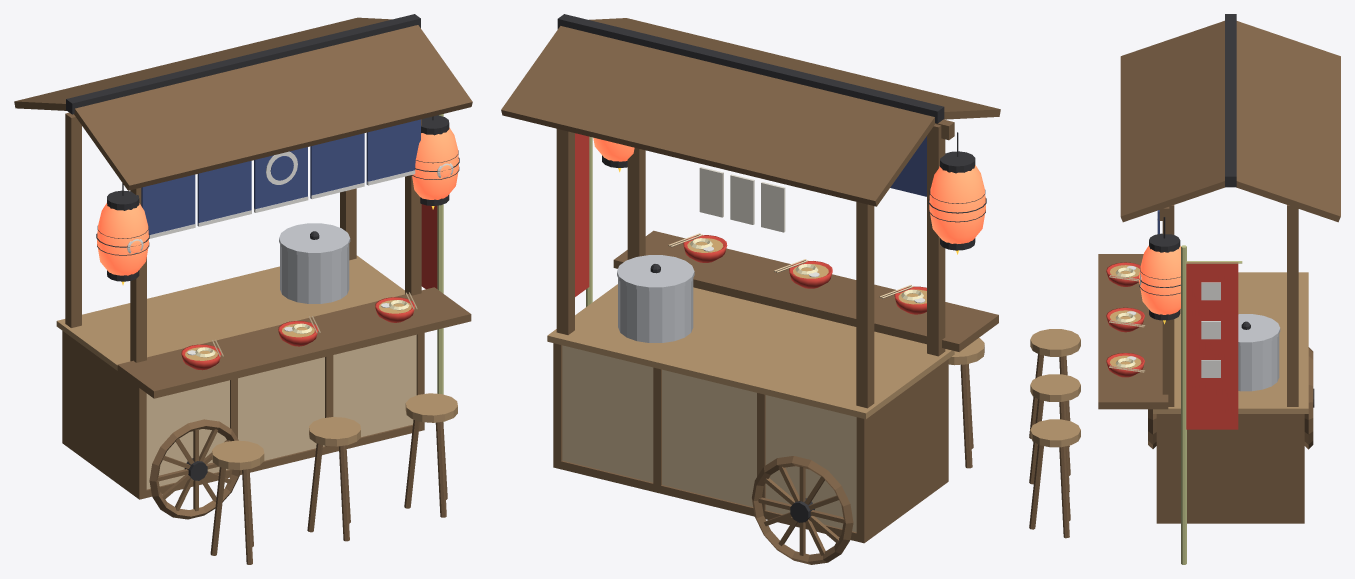
File: jp_ramen_stall.glb
3 renders of one model, left to right at view 1: azimuth 30°, elevation 25°; view 2: azimuth 150°, elevation 25°; view 3: azimuth 270°, elevation 25°, orthographic. The views are drawn at different scales.
Visible parts, largest first — view 1: jp_ramen_stall; view 2: jp_ramen_stall; view 3: jp_ramen_stall.
Part boxes in pixels (x1=…): jp_ramen_stall: x1=14, y1=14, x2=472, y2=564; jp_ramen_stall: x1=501, y1=14, x2=1000, y2=564; jp_ramen_stall: x1=1029, y1=14, x2=1340, y2=564.
Size of the model in its own units: 2.03 by 2.21 by 1.6.
